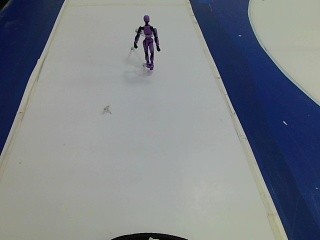pedestrian: (131, 13, 163, 75)
